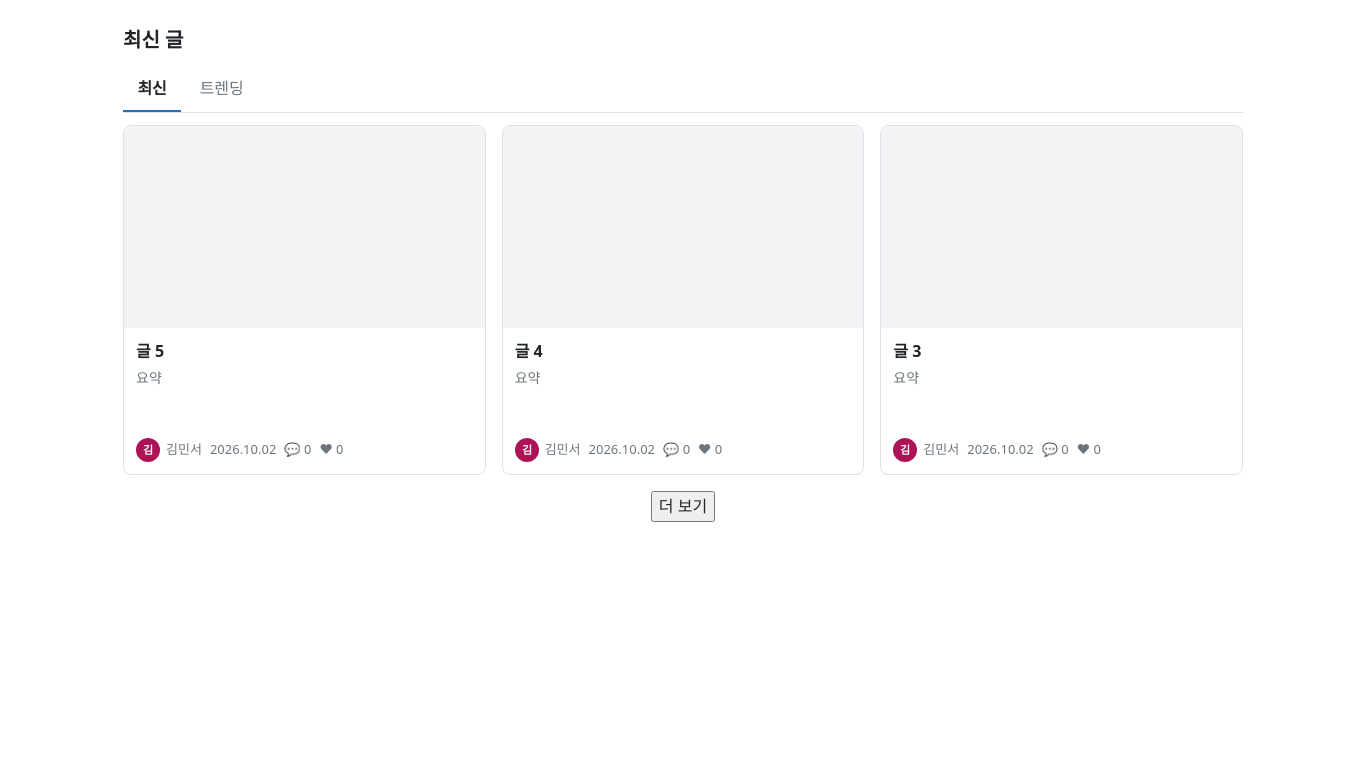
Test case: HomePage › 이어 받은 목록에 이미 있는 글이 섞여 있어도 카드는 한 번만 그린다
Expected: the number of elements with test id "post-card" is 3, [123,125,486,475]; [502,125,864,475]; [880,125,1243,475]
Step 1. Click the button "더 보기" → [683, 507], box [651,491,715,522]
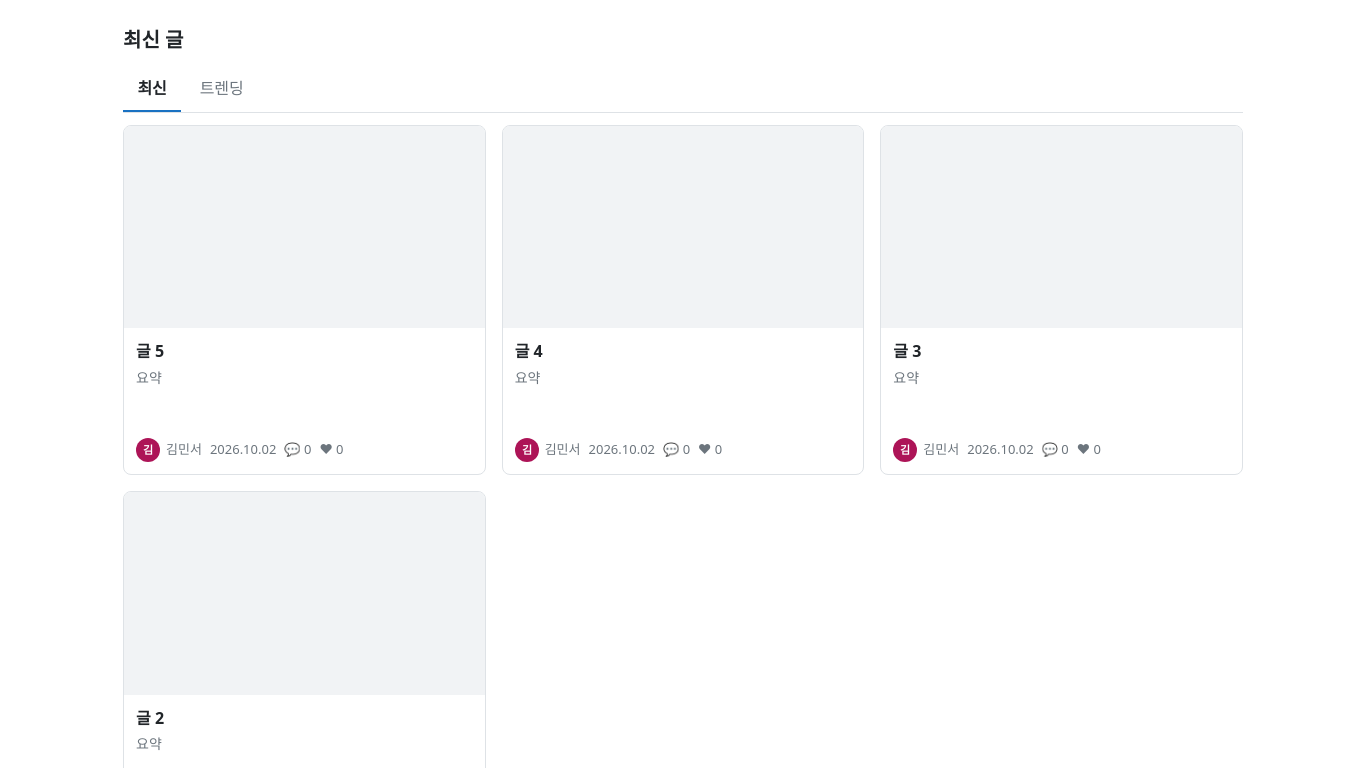
Now the elements with test id "card-title" read "글 5", "글 4", "글 3", "글 2", in this order, box [136,340,164,362]; [515,340,543,362]; [893,340,921,362]; [136,707,164,729]
